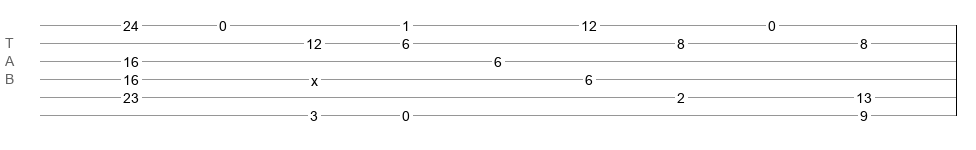0: (219, 18, 227, 28), (402, 108, 410, 118), (768, 18, 776, 28)
1: (402, 18, 410, 28)
12: (306, 36, 322, 46), (581, 18, 597, 28)
13: (856, 90, 872, 100)
16: (123, 54, 139, 64), (123, 72, 139, 82)
2: (677, 90, 685, 100)
23: (123, 90, 139, 100)
24: (123, 18, 139, 28)
3: (310, 108, 318, 118)
6: (402, 36, 410, 46), (494, 54, 502, 64), (585, 72, 593, 82)
8: (677, 36, 685, 46), (860, 36, 868, 46)
9: (860, 108, 868, 118)
x: (311, 73, 318, 81)
